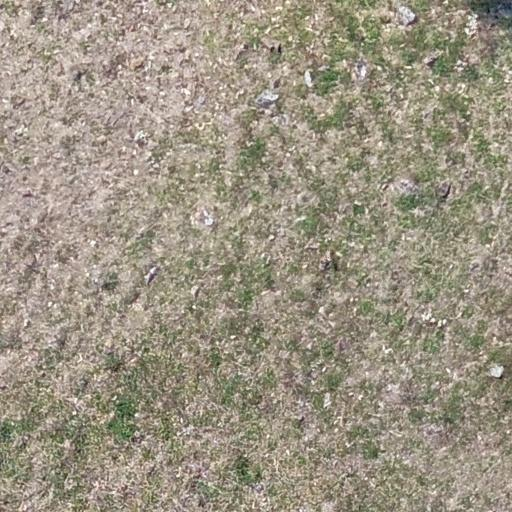stone: (456, 9, 482, 47), (247, 84, 282, 108), (381, 177, 420, 198), (24, 251, 43, 277), (396, 5, 418, 27), (192, 207, 216, 227), (384, 380, 404, 400), (143, 264, 160, 287), (234, 42, 252, 62), (352, 60, 368, 82), (488, 362, 506, 380), (76, 375, 91, 396), (126, 288, 142, 306), (436, 182, 452, 200), (109, 358, 127, 374), (270, 113, 290, 127), (424, 54, 440, 70), (72, 68, 88, 84), (11, 96, 28, 110), (12, 124, 28, 138), (336, 338, 347, 356), (468, 260, 482, 274), (134, 130, 148, 144), (192, 93, 206, 107), (103, 338, 115, 354), (304, 69, 314, 88), (196, 495, 208, 509), (322, 393, 332, 409), (304, 241, 320, 251), (421, 311, 433, 323), (276, 226, 288, 238), (293, 215, 307, 225), (192, 286, 202, 300), (135, 228, 146, 240), (180, 87, 191, 98), (382, 344, 393, 355), (96, 134, 108, 144), (22, 190, 36, 198), (380, 182, 390, 192), (436, 318, 446, 328), (273, 78, 281, 90), (318, 305, 327, 315), (261, 289, 273, 296), (297, 415, 305, 425), (22, 318, 30, 328), (89, 239, 97, 248), (0, 383, 9, 391), (47, 300, 55, 308), (241, 42, 249, 50), (429, 317, 437, 325), (376, 140, 384, 148), (433, 85, 441, 93), (2, 97, 10, 105), (270, 44, 276, 54), (158, 90, 166, 97), (268, 234, 275, 241), (132, 169, 139, 176), (229, 334, 237, 340), (484, 243, 492, 249), (321, 365, 327, 373), (133, 412, 140, 418), (71, 410, 77, 416)
